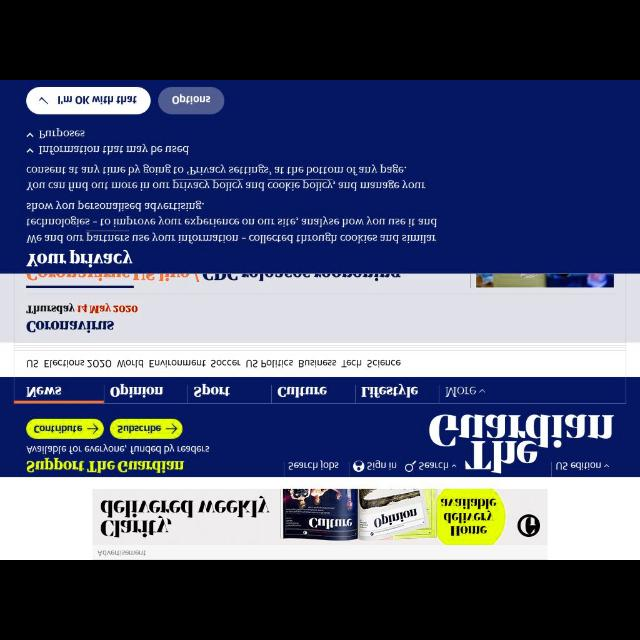icon: (35, 94, 51, 108), (404, 459, 416, 475), (352, 461, 366, 474), (86, 423, 100, 435), (165, 422, 177, 434), (478, 386, 486, 396), (603, 462, 611, 470), (27, 132, 35, 140), (26, 148, 34, 154), (452, 463, 456, 469)
iframe: (93, 490, 549, 560)
image: (428, 413, 616, 475)
multitab: (1, 378, 639, 404)
spinner: (23, 142, 190, 158), (554, 458, 614, 476), (24, 125, 90, 141), (442, 381, 488, 403), (418, 461, 458, 474)
text: (23, 199, 439, 247), (23, 162, 431, 192), (26, 460, 188, 476), (26, 443, 210, 457), (24, 248, 134, 270), (40, 144, 188, 156), (26, 319, 116, 337), (24, 304, 142, 316), (26, 356, 112, 372), (58, 93, 138, 107), (361, 384, 419, 401), (110, 384, 167, 400), (276, 384, 328, 400), (246, 356, 294, 372), (148, 358, 208, 370), (194, 383, 232, 401), (34, 424, 82, 436), (39, 128, 87, 140), (116, 424, 162, 436), (556, 460, 602, 472), (169, 94, 213, 106), (288, 461, 340, 471), (366, 357, 402, 371), (26, 386, 62, 398), (445, 384, 475, 398), (298, 358, 336, 368), (368, 460, 398, 472), (116, 359, 146, 371), (210, 359, 242, 369), (420, 462, 448, 472), (343, 358, 363, 370)
textbutton: (27, 87, 152, 115), (159, 86, 225, 116), (26, 420, 104, 440), (110, 418, 184, 439)
toolbar: (1, 406, 638, 476)
